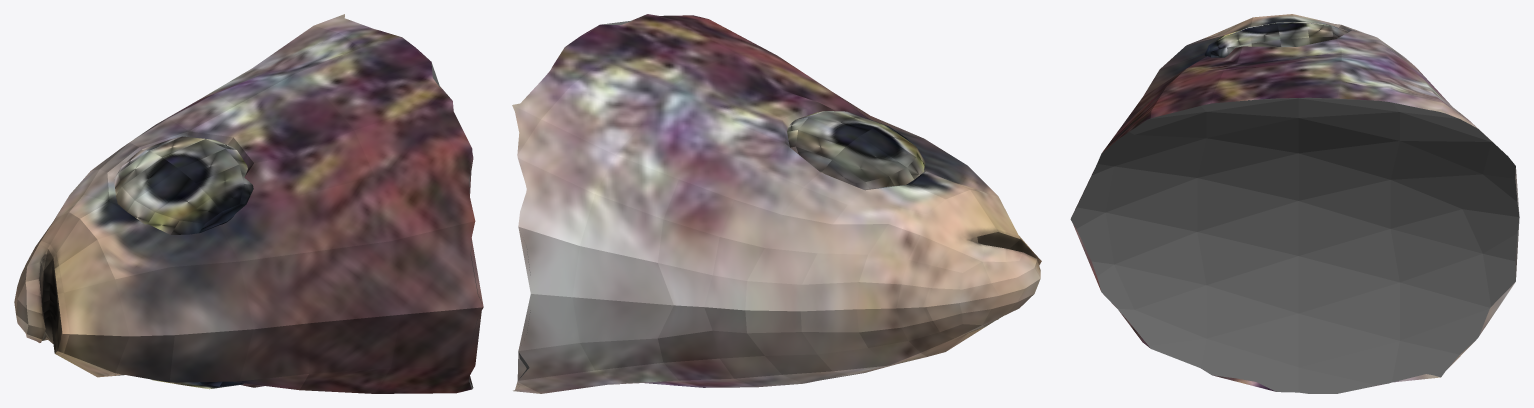
Rendered from link_0_composite.obj.
3 views of the same model, side by side, from view 1: azimuth 30°, elevation 25°; view 2: azimuth 150°, elevation 25°; view 3: azimuth 270°, elevation 25° (orthographic). The views are drawn at different scales.
Bounding box in the file's own units: 0.00254 × 0.0018 × 0.00247.
1 material, 1 textured.
